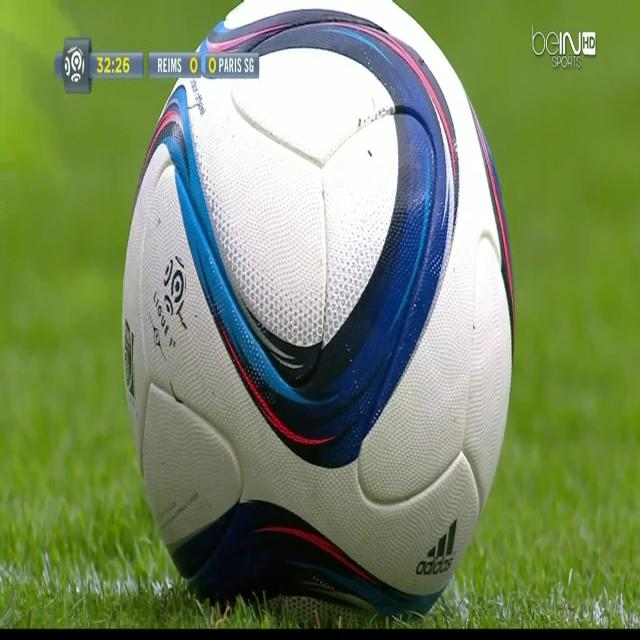Ball: (115, 1, 522, 622)
